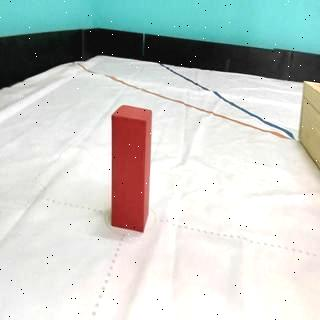redbox: (111, 103, 151, 234)
